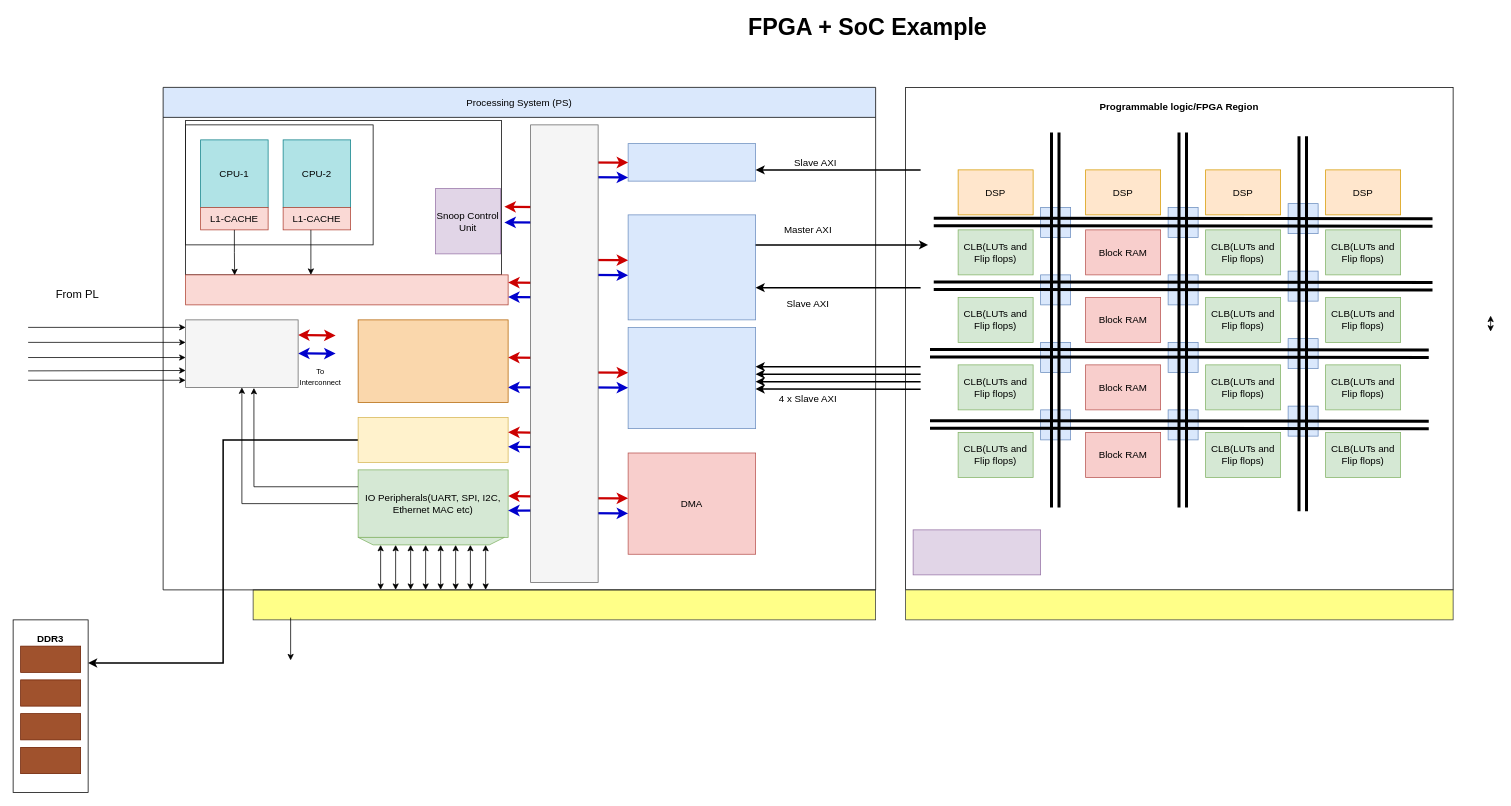
Image size: 1511x806. Some labels were removed from this diagram. The centre of each missing label's shape, as x and y in pixels:
"AXI Interface(Cache Coherent)" goes at point (691, 162).
"AXI Interface(General Purpose)" goes at point (691, 267).
"AXI Interface(High Performance)" goes at point (691, 378).
"Clock Management(PLL/ MMCM)" goes at point (976, 552).
"DDR Memory controller" goes at point (432, 439).
"FPGA Programmable Logic IO Pins" goes at point (1179, 604).
"Interconnect ( Address & Control Signals , Data )" goes at point (564, 353).
"Interrupt Controller" goes at point (241, 353).
"L2 Cache" goes at point (346, 289).
"On Chip Memory" goes at point (432, 360).
"Processing System IO Pins" goes at point (564, 604).
